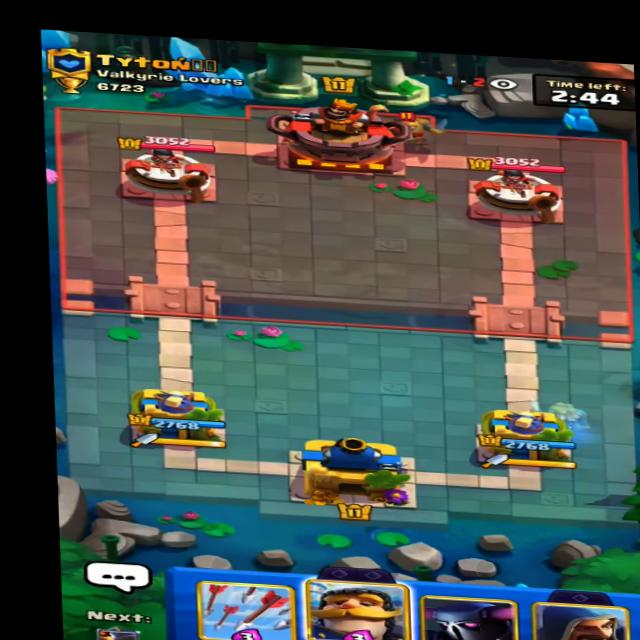knight: (368, 107, 462, 147)
